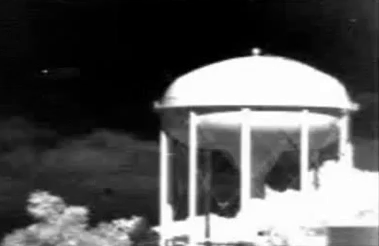Target: (43, 71, 48, 73)
